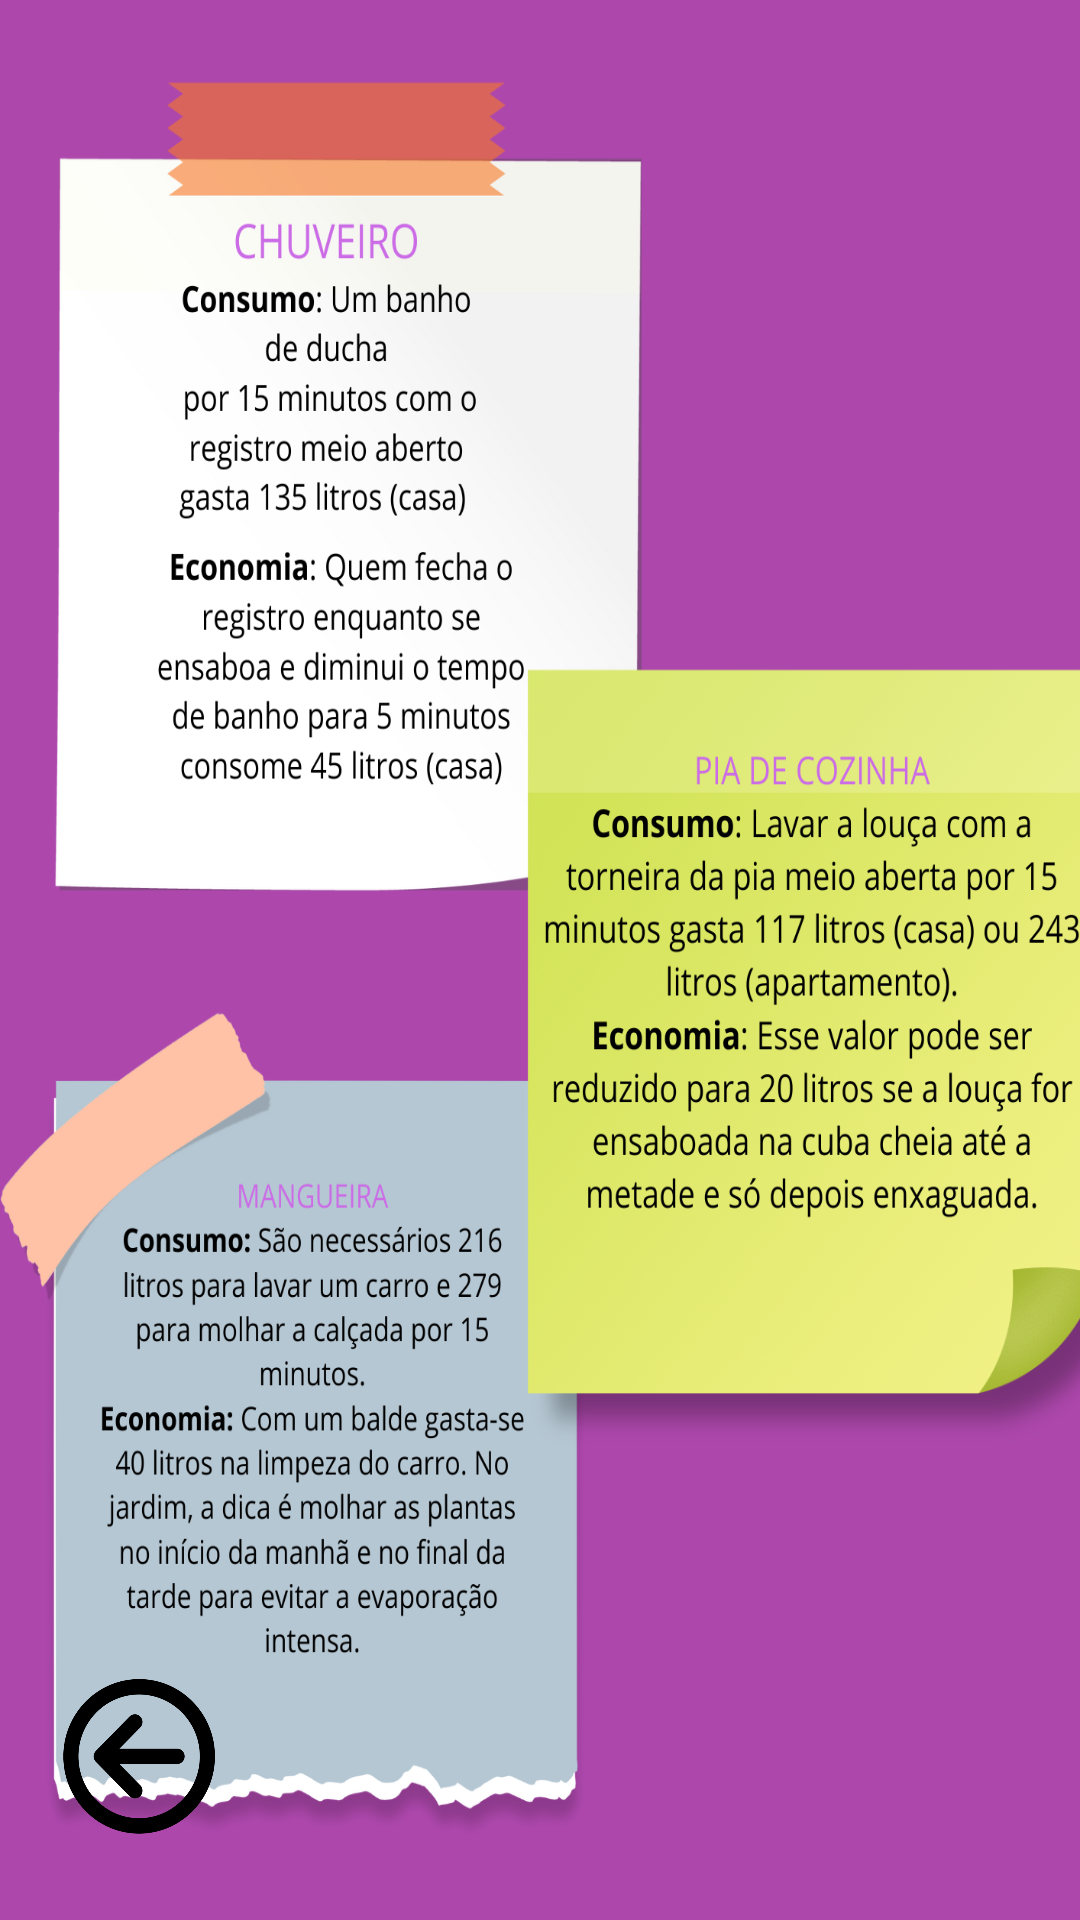

Point at icon controls on the screen. Image size 1080w x 1920h, points as [x,y].
back: [133,1753]
